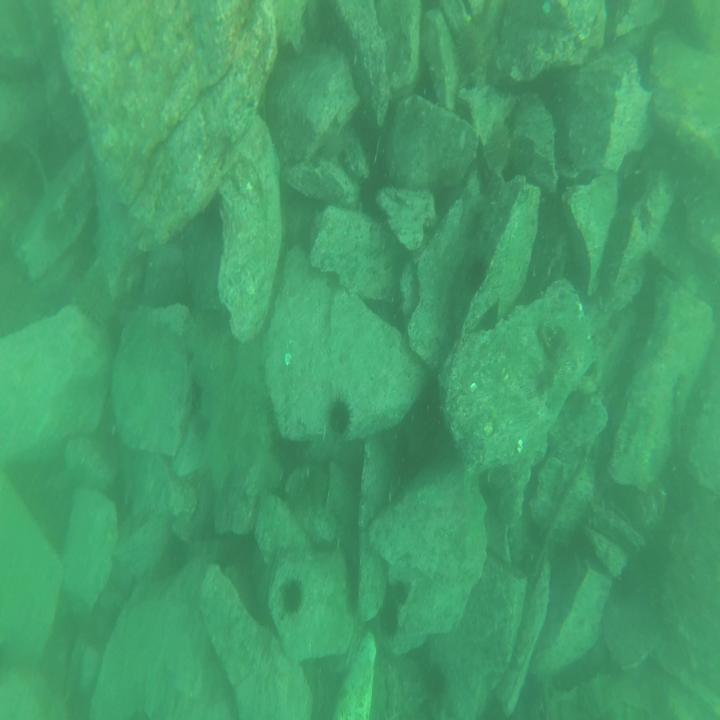echinus: (328, 396, 354, 437), (281, 577, 303, 616)
